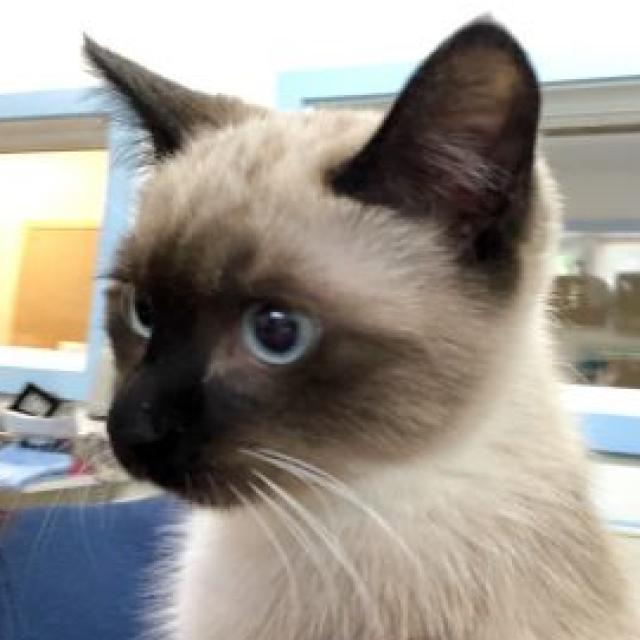Siamese: (76, 9, 640, 640)
